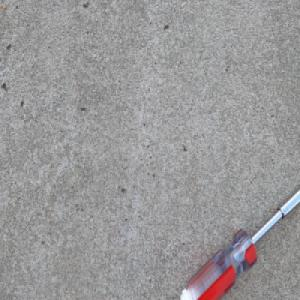Screwdriver: (174, 184, 300, 300)
